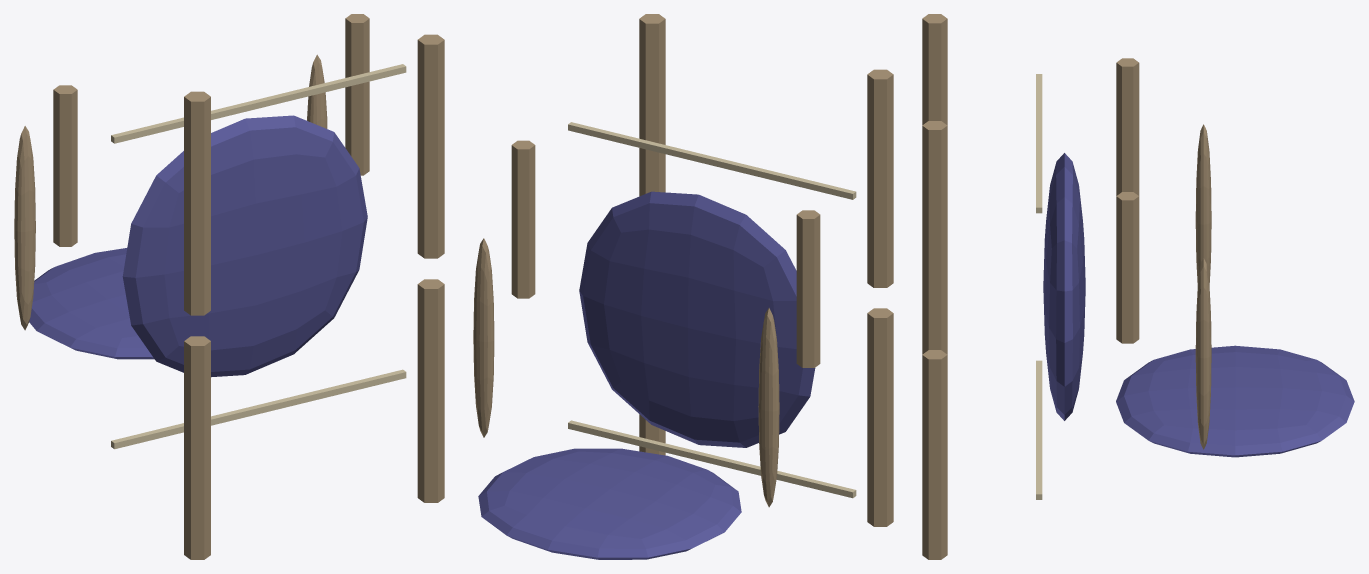
The model's file is armchair.glb.
3 renders of one model, left to right at view 1: azimuth 30°, elevation 25°; view 2: azimuth 150°, elevation 25°; view 3: azimuth 270°, elevation 25°, orthographic. The views are drawn at different scales.
Parts seen in each view (by area): view 1: Armchair; view 2: Armchair; view 3: Armchair.
Part boxes in pixels (x1,y1,x2,y2): Armchair: (14, 14, 444, 559); Armchair: (473, 14, 893, 559); Armchair: (922, 14, 1354, 559).
Bounding box in the file's own units: 0.5336 × 0.75 × 0.6839.
